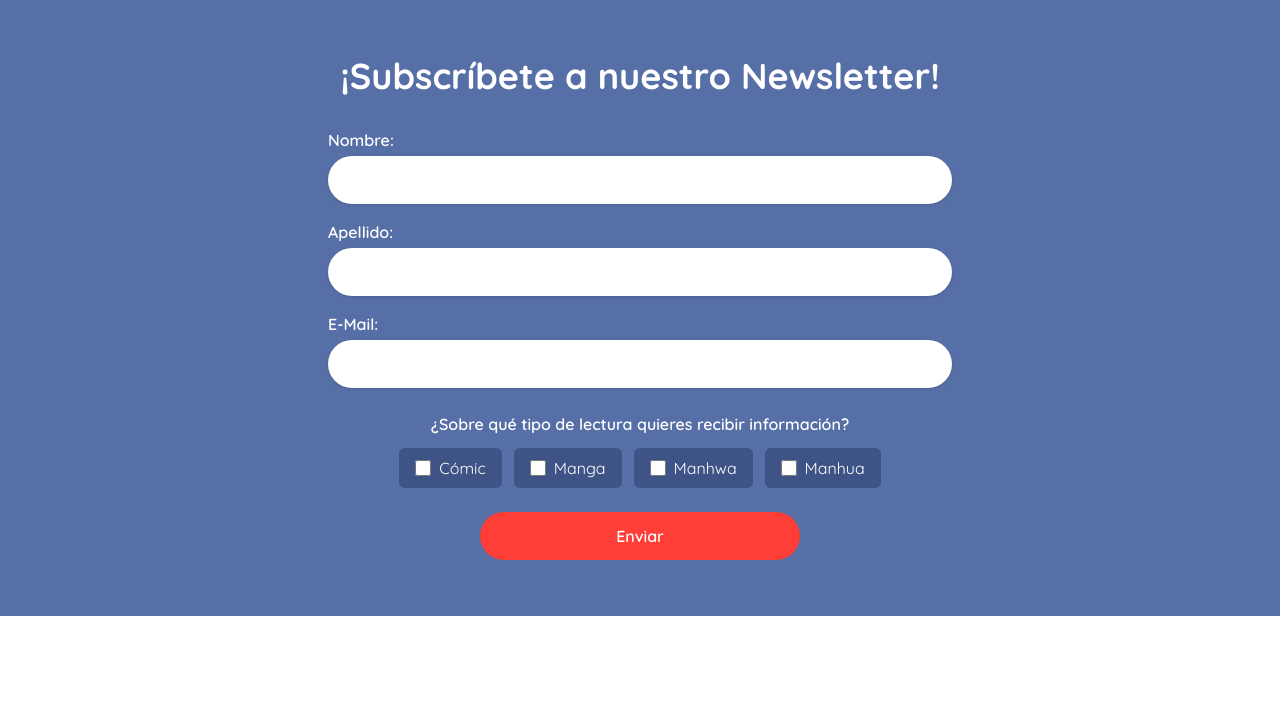
Newsletter › shows a success message on a valid submit and clears the fields
The width and height of the screenshot is (1280, 720).
Step 1. Type "Ana" into the field labelled "Nombre:" → [640, 180], box [328,156,952,204]
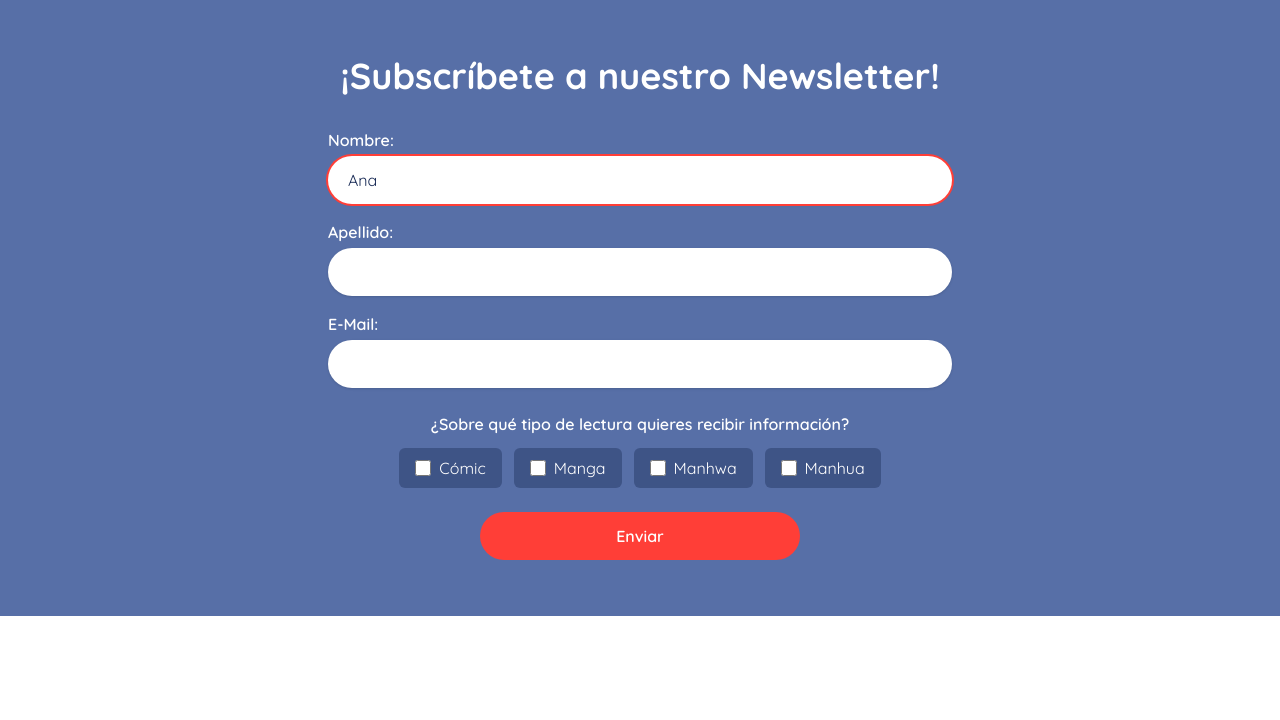
Step 2. Type "ana@example.com" into the field labelled "E-Mail:" → [640, 364], box [328,340,952,388]
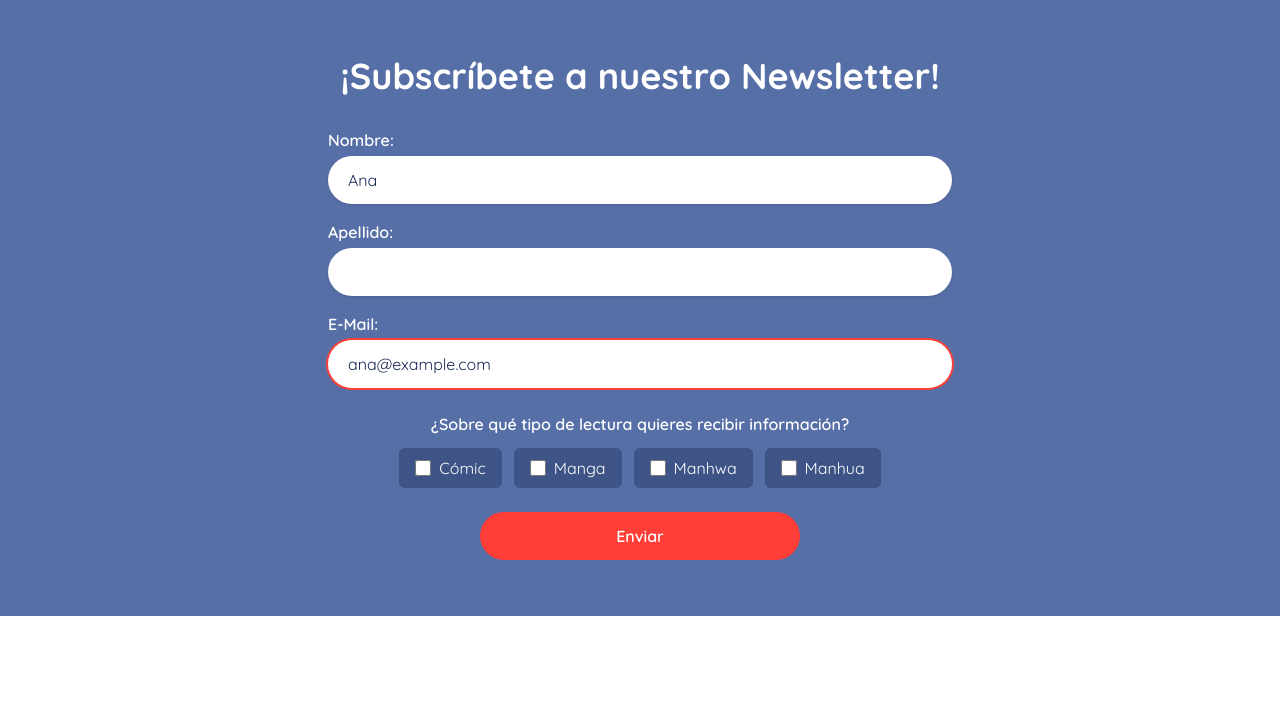
Step 3. Click the button "Enviar" → [640, 536], box [480,512,800,560]
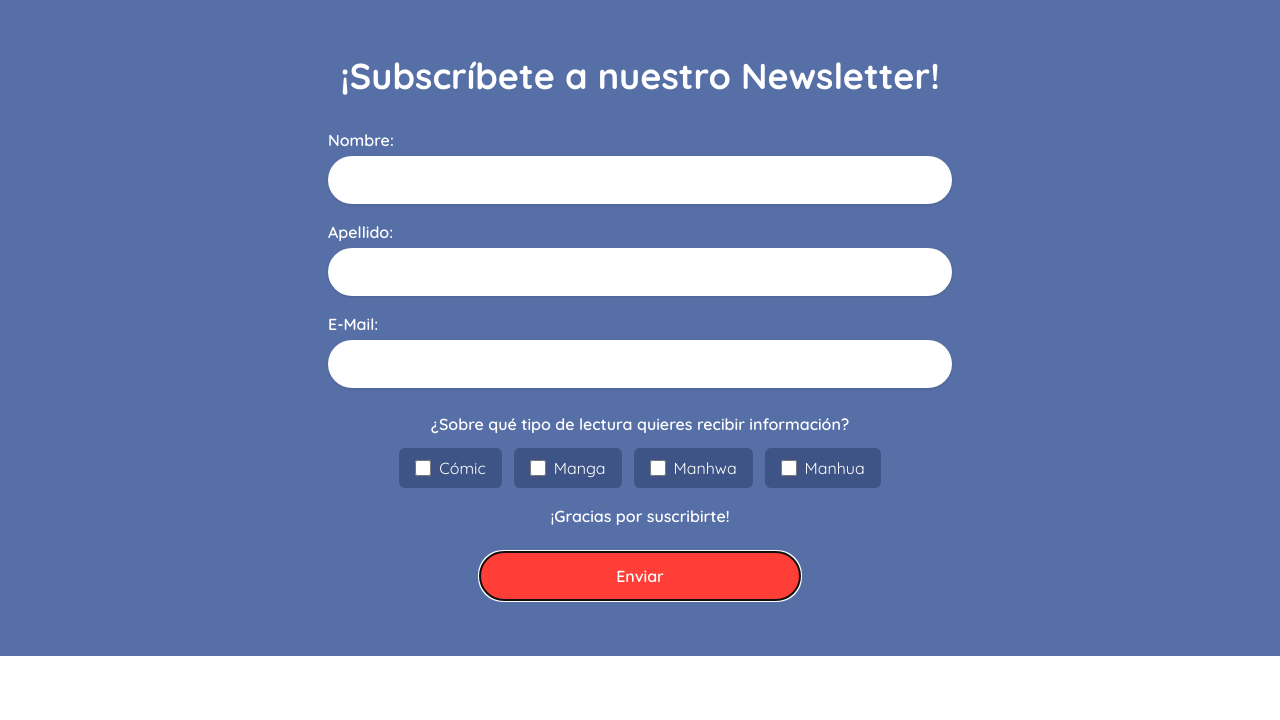
Expected: the text "¡Gracias por suscribirte!" is shown, [550,506,730,526]
Expected: the field labelled "Nombre:" is empty, [328,156,952,204]
Expected: the field labelled "E-Mail:" is empty, [328,340,952,388]
